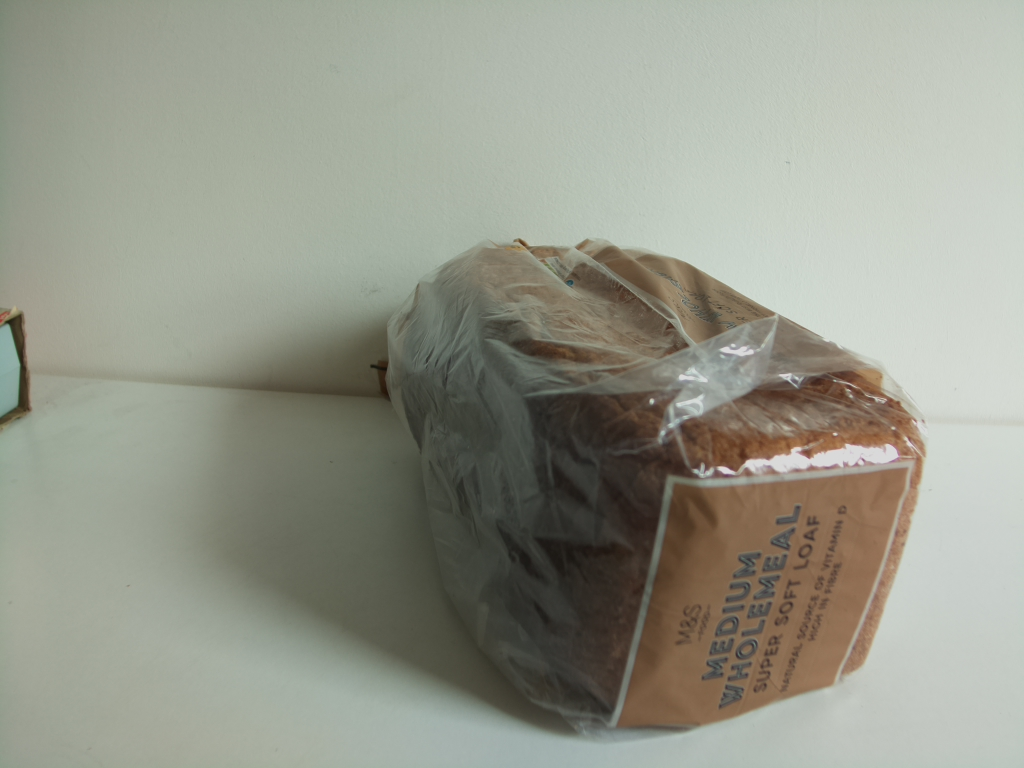bread: (363, 238, 929, 742)
